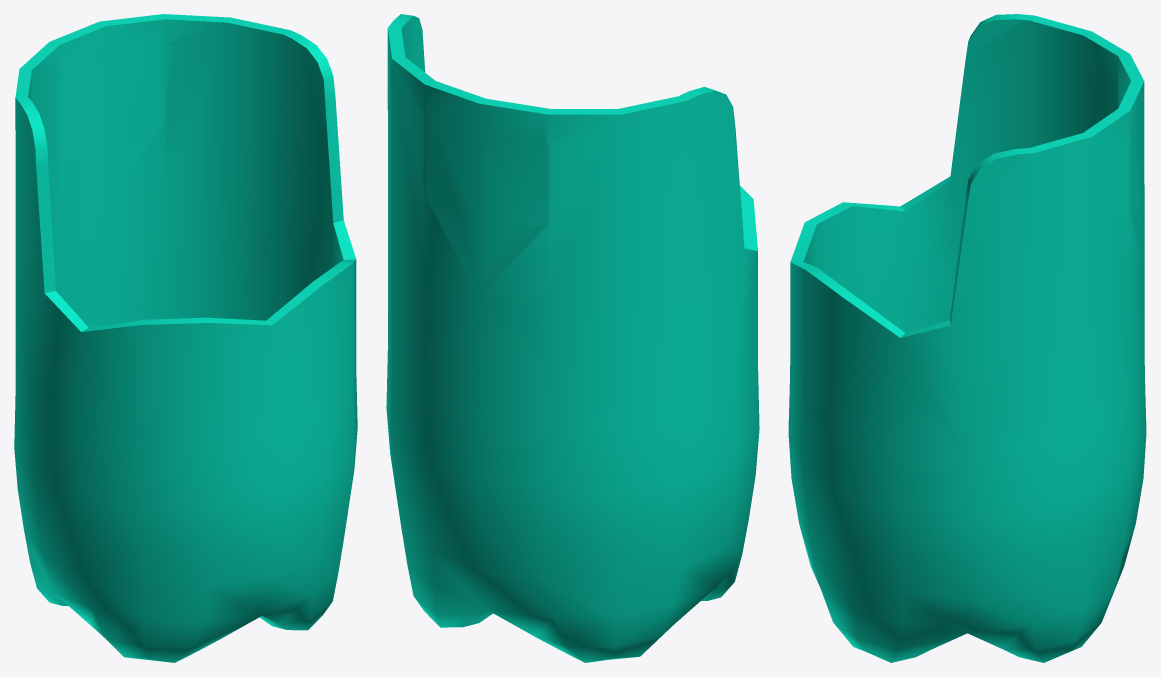
The picture shows the model from 3 angles, left to right: view 1: azimuth 30°, elevation 25°; view 2: azimuth 150°, elevation 25°; view 3: azimuth 270°, elevation 25°; orthographic projection. The views are drawn at different scales.
Visible parts, largest first — view 1: New Water Bottle 05 Mobile Stand, 05 Cut Area; view 2: New Water Bottle 05 Mobile Stand, 05 Cut Area; view 3: New Water Bottle 05 Mobile Stand, 05 Cut Area.
Boxes of the visible parts, box(x1,y1,x2,y2) form: New Water Bottle 05 Mobile Stand: box(14, 14, 357, 662); 05 Cut Area: box(55, 43, 174, 149); New Water Bottle 05 Mobile Stand: box(386, 14, 759, 662); 05 Cut Area: box(423, 111, 551, 227); New Water Bottle 05 Mobile Stand: box(788, 14, 1146, 662); 05 Cut Area: box(1113, 80, 1144, 215).
Bounding box in the file's own units: 0.1372 × 0.2293 × 0.1378.
